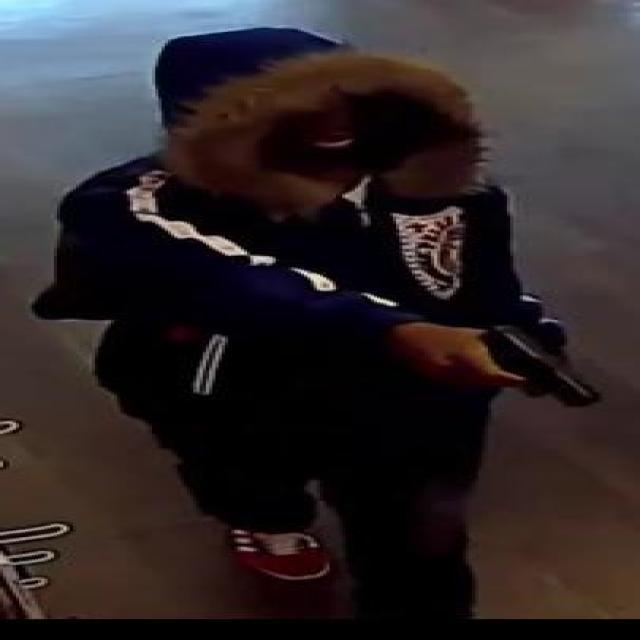Gun: (462, 310, 601, 446)
